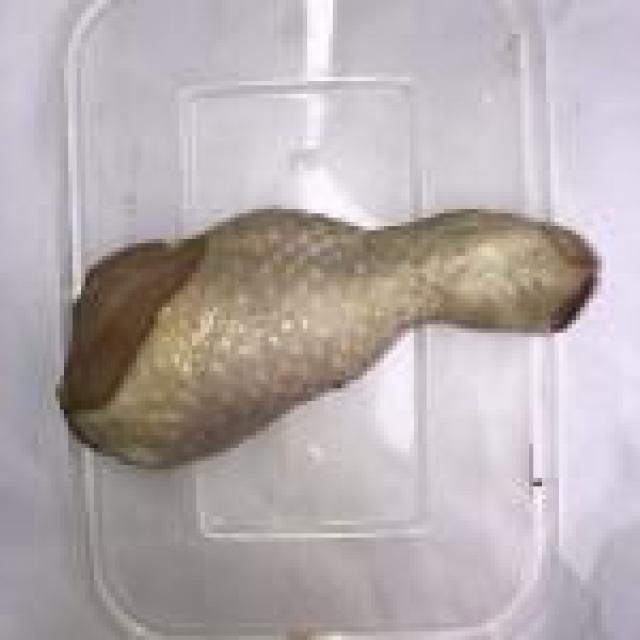leg: (53, 192, 590, 478)
